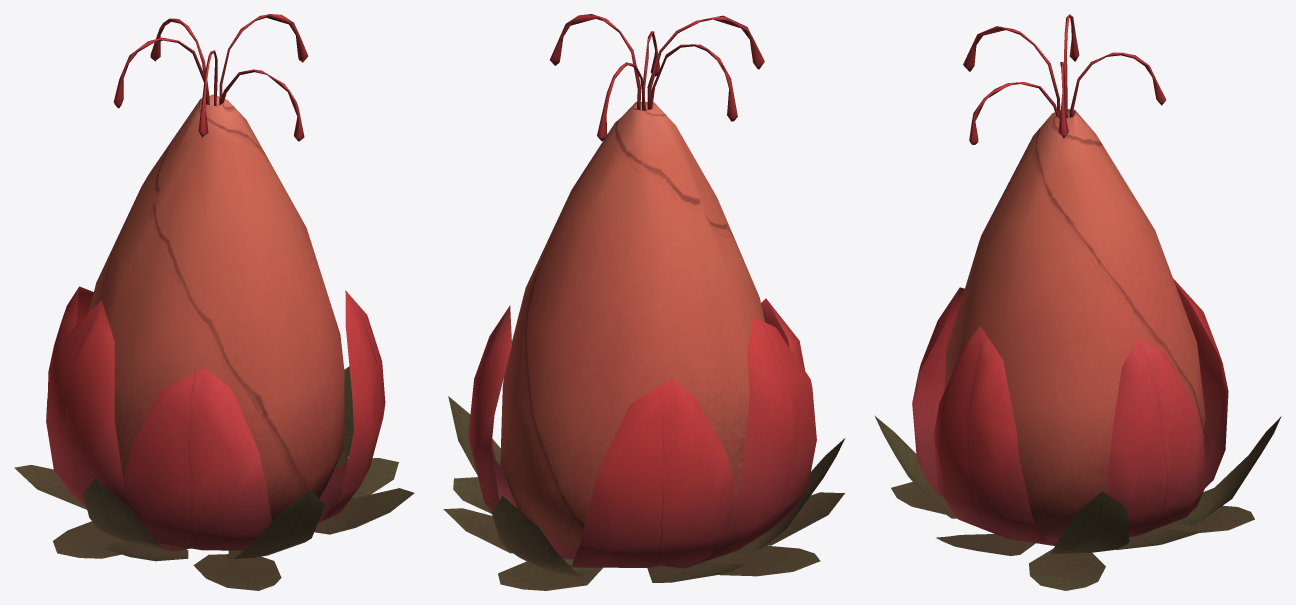
Rendered from flower2_LOD2.fbx.
3 views of the same model, side by side, from view 1: azimuth 30°, elevation 25°; view 2: azimuth 150°, elevation 25°; view 3: azimuth 270°, elevation 25° (orthographic). The views are drawn at different scales.
Parts seen in each view (by area): view 1: PlantEgg4; view 2: PlantEgg4; view 3: PlantEgg4.
Part boxes in pixels (x1,y1,x2,y2): PlantEgg4: [14, 14, 414, 590]; PlantEgg4: [443, 14, 845, 590]; PlantEgg4: [874, 14, 1281, 590].
Size of the model in its own units: 5.6 by 7.66 by 5.89.
1 material, 1 textured.
